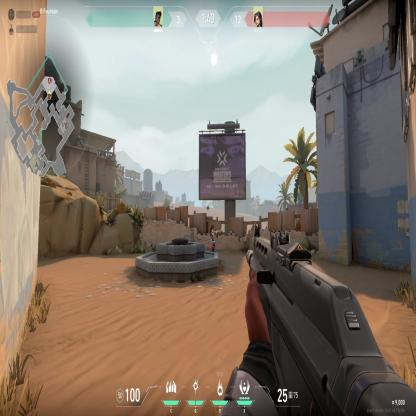enemy: (210, 223, 218, 251)
